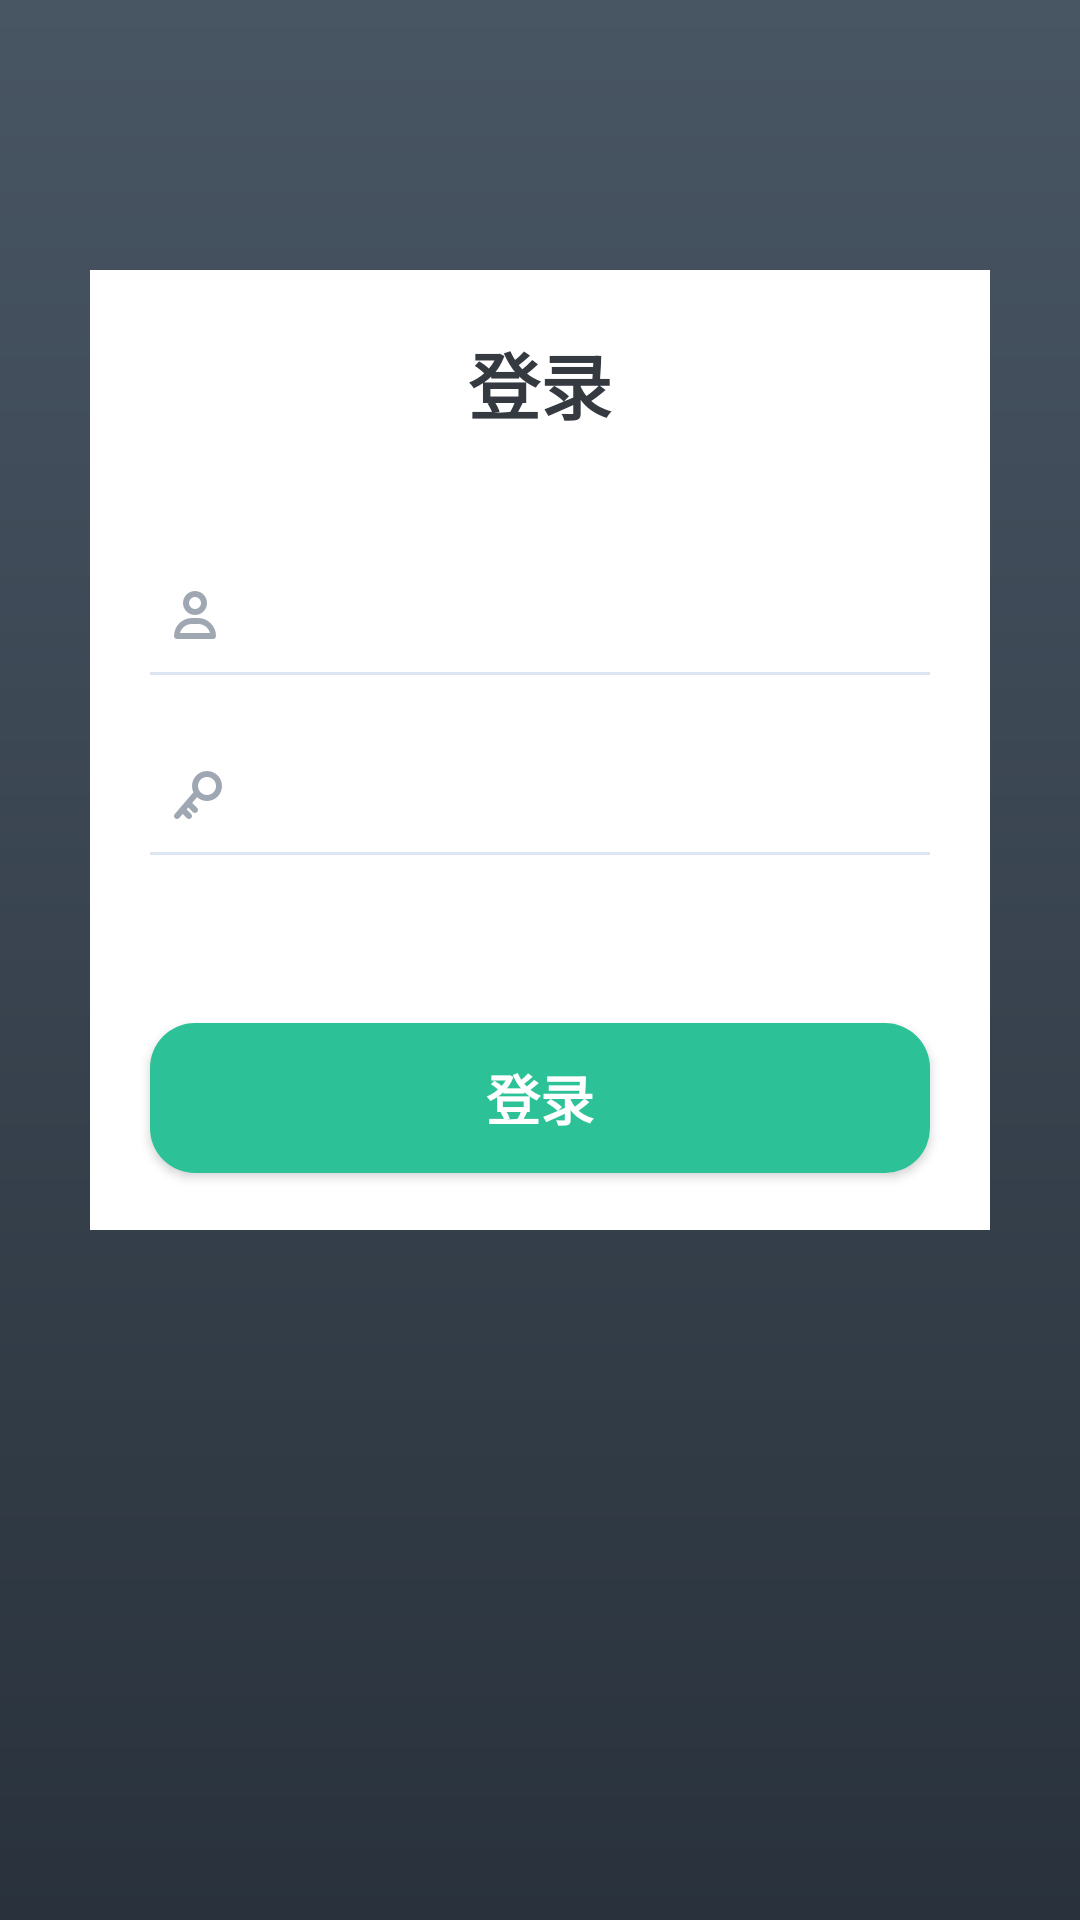

Icon click points for this 1080 × 1920 phone screenshot, format (x=x, y=y):
password: (x=198, y=795)
username: (x=195, y=615)
